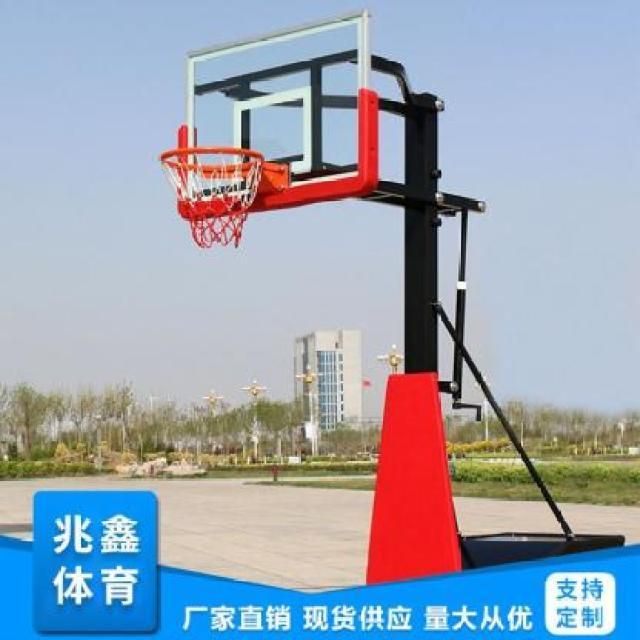rim: (160, 146, 264, 246)
